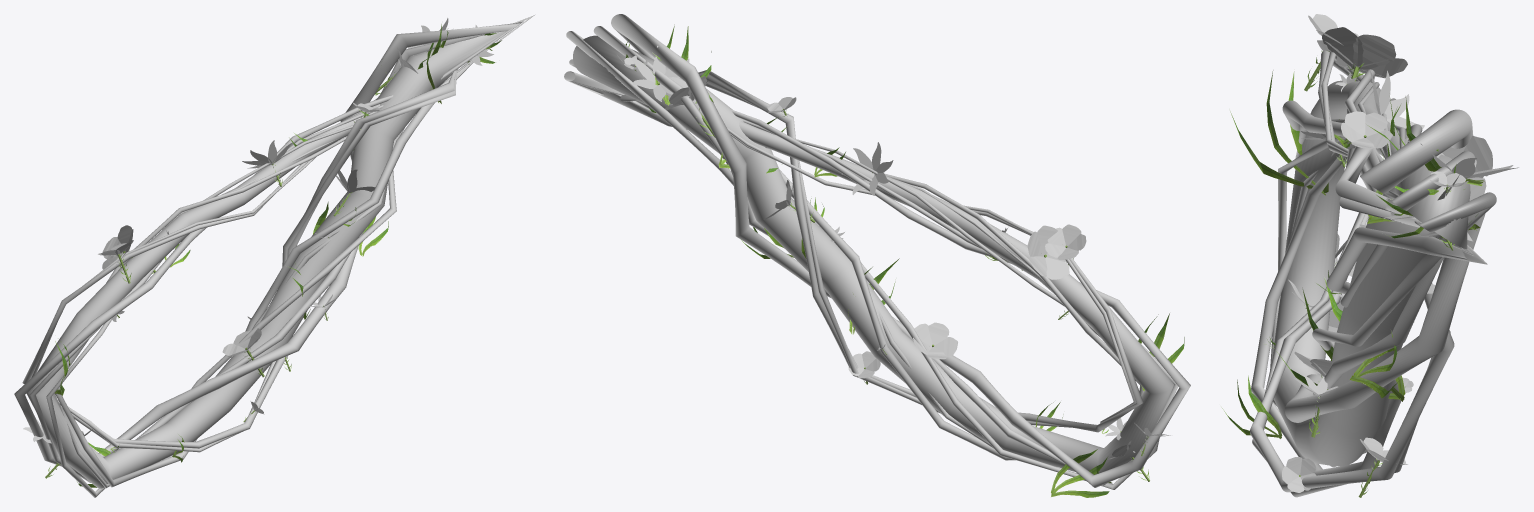
File: vine_v2 6.fbx
3 renders of one model, left to right at view 1: azimuth 30°, elevation 25°; view 2: azimuth 150°, elevation 25°; view 3: azimuth 270°, elevation 25°, orthographic. The views are drawn at different scales.
Parts seen in each view (by area): view 1: BezierCurve.010; view 2: BezierCurve.010; view 3: BezierCurve.010.
Part boxes in pixels (left/top/right/bottom): BezierCurve.010: left=14, top=15, right=534, bottom=497; BezierCurve.010: left=564, top=14, right=1190, bottom=497; BezierCurve.010: left=1221, top=14, right=1518, bottom=497.
Bounding box in the file's own units: 1342 × 859 × 355.
